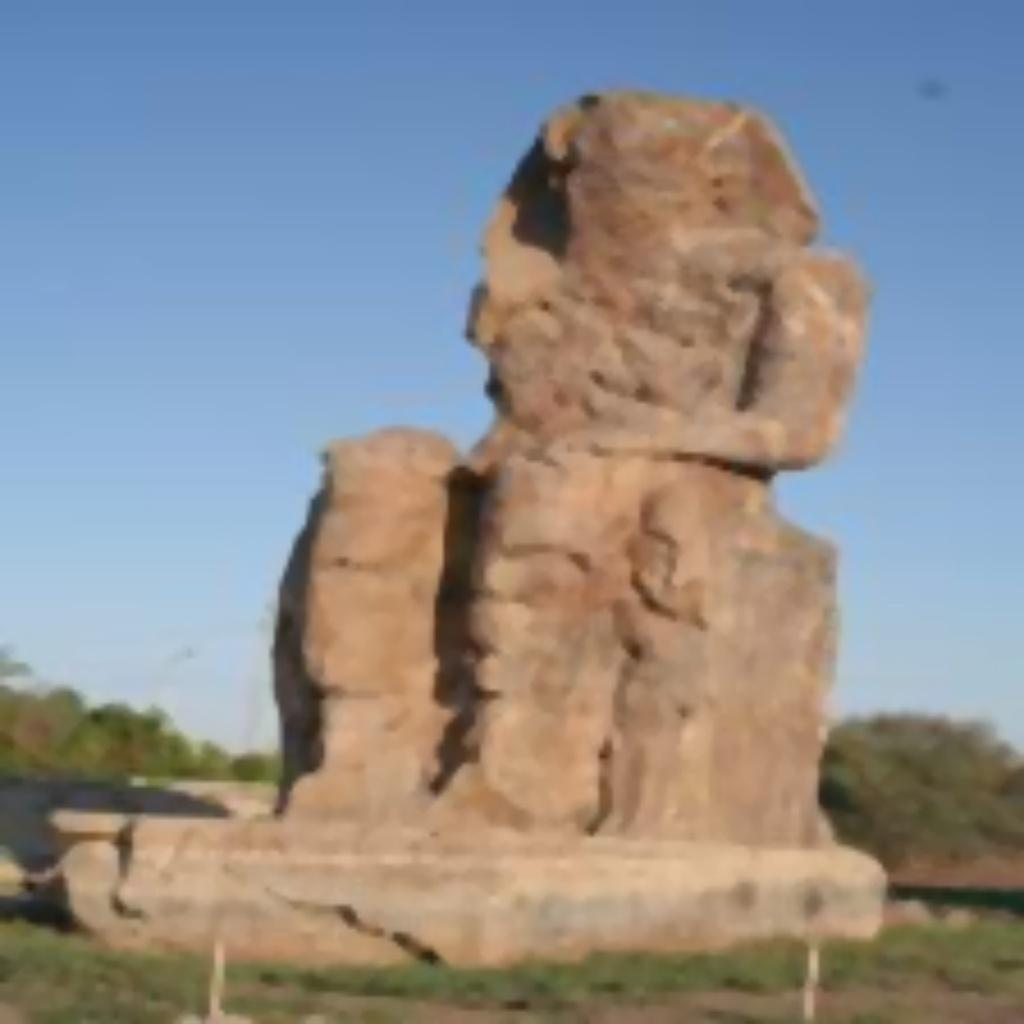Colossoi of Memnon: (50, 78, 896, 969)
